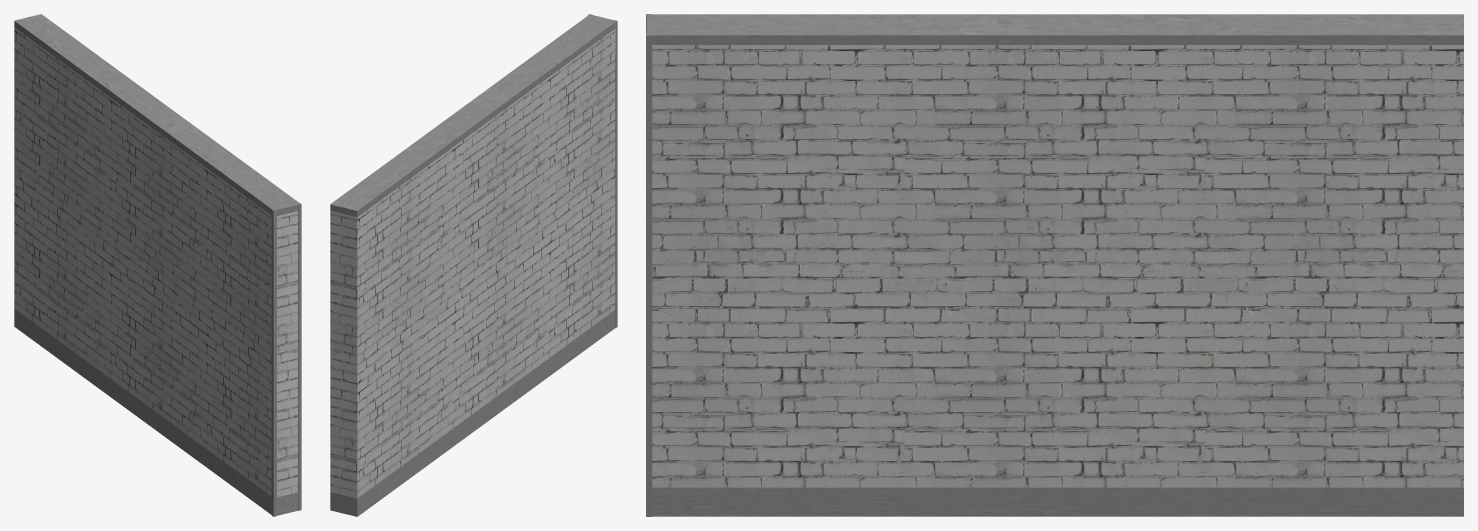
Rendered from Wall1.fbx.
The picture shows the model from 3 angles, left to right: view 1: azimuth 30°, elevation 25°; view 2: azimuth 150°, elevation 25°; view 3: azimuth 270°, elevation 25°; orthographic projection. The views are drawn at different scales.
Parts seen in each view (by area): view 1: Empty_Mesh; view 2: Empty_Mesh; view 3: Empty_Mesh.
Boxes of the visible parts, box(x1,y1,x2,y2) form: Empty_Mesh: box(14, 14, 301, 516); Empty_Mesh: box(330, 14, 617, 516); Empty_Mesh: box(646, 14, 1463, 516).
Size of the model in its own units: 25.57 by 265 by 408.
